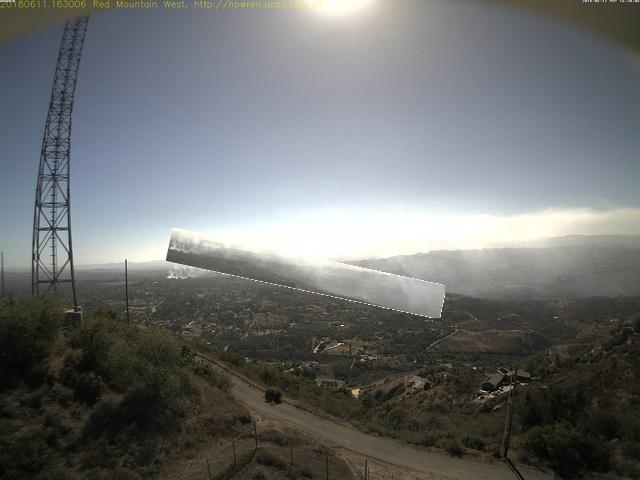smoke: (167, 244, 447, 306)
